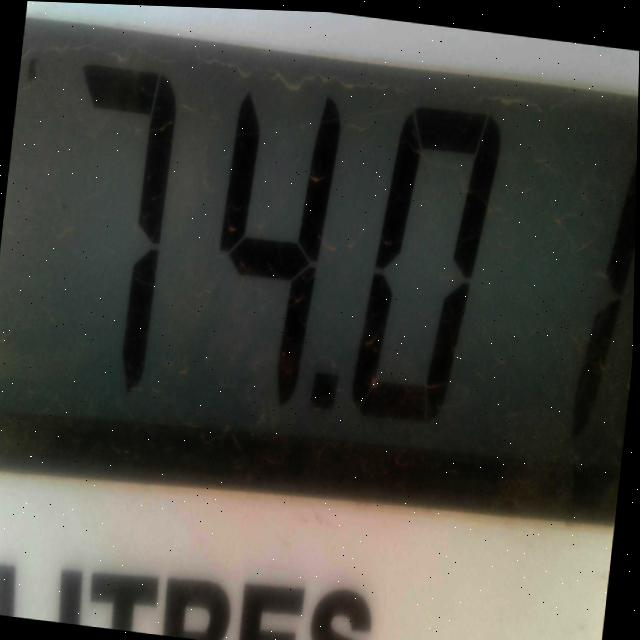.: (291, 332, 353, 444)
0: (342, 82, 512, 432)
1: (535, 92, 639, 451)
4: (191, 68, 348, 412)
7: (27, 42, 197, 401)
